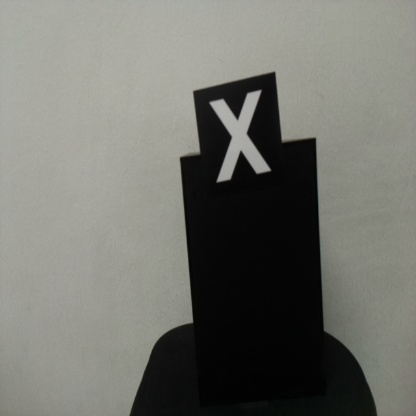id_13: (192, 87, 283, 197)
